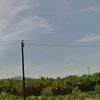Tree: (44, 65, 93, 100)
